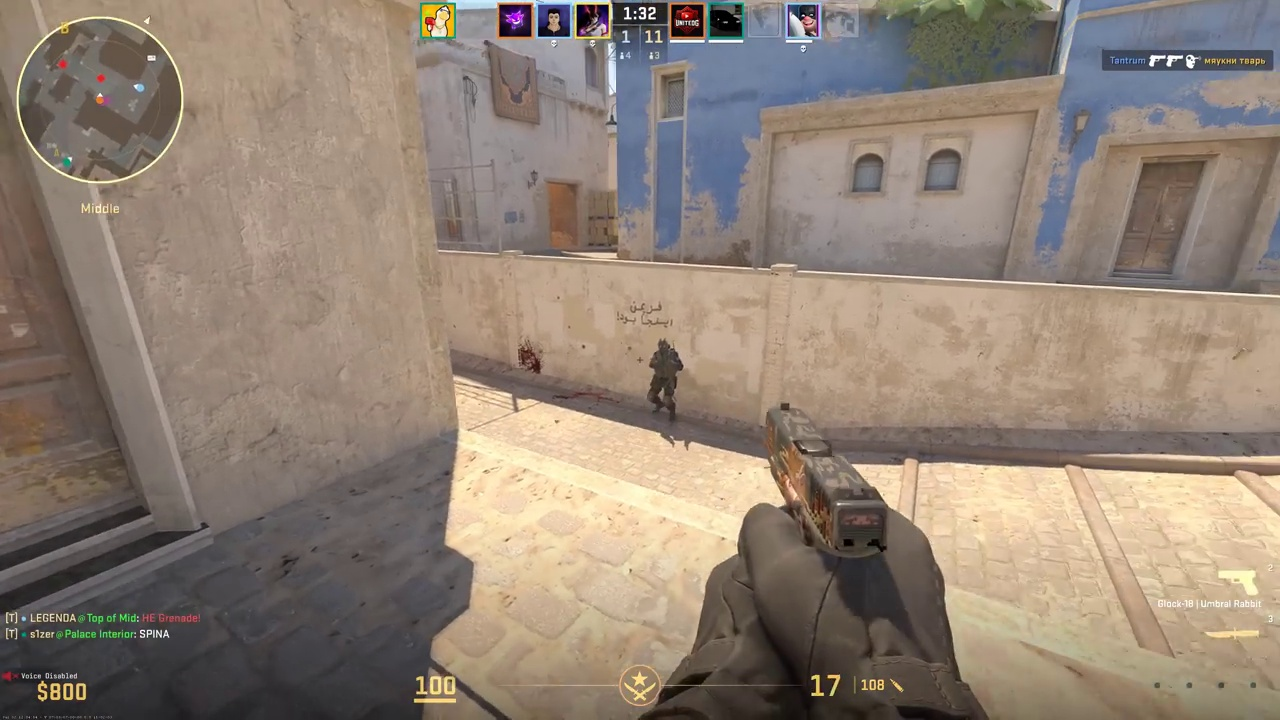CT: (647, 339, 678, 417)
